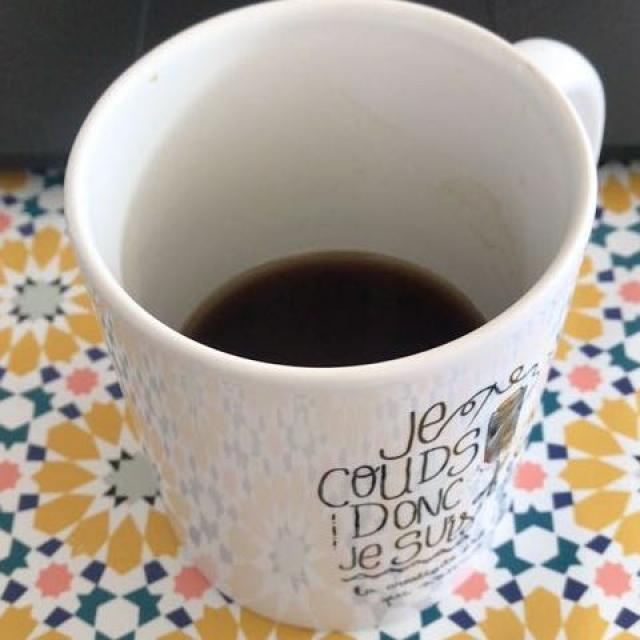coffee: (150, 254, 534, 426), (186, 240, 500, 421), (143, 222, 465, 386), (188, 242, 514, 392), (161, 245, 484, 387), (190, 251, 484, 390), (193, 245, 465, 394), (179, 237, 480, 365)
